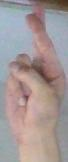R: (5, 0, 68, 162)
